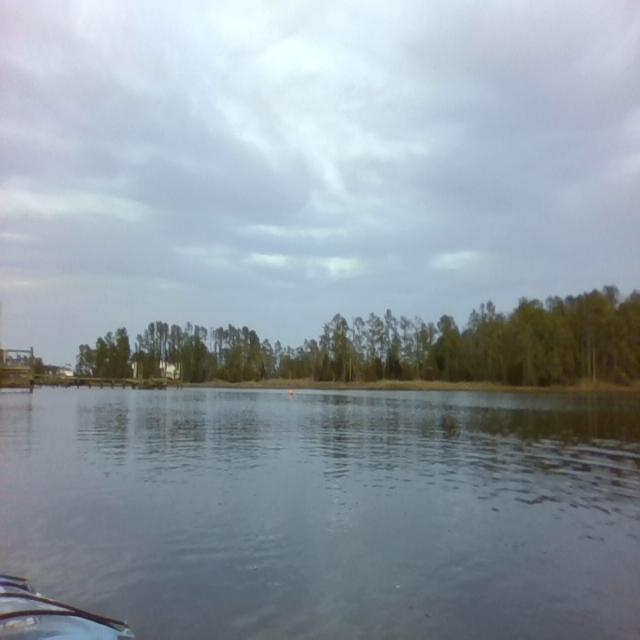Buoy: (288, 387, 297, 397)
